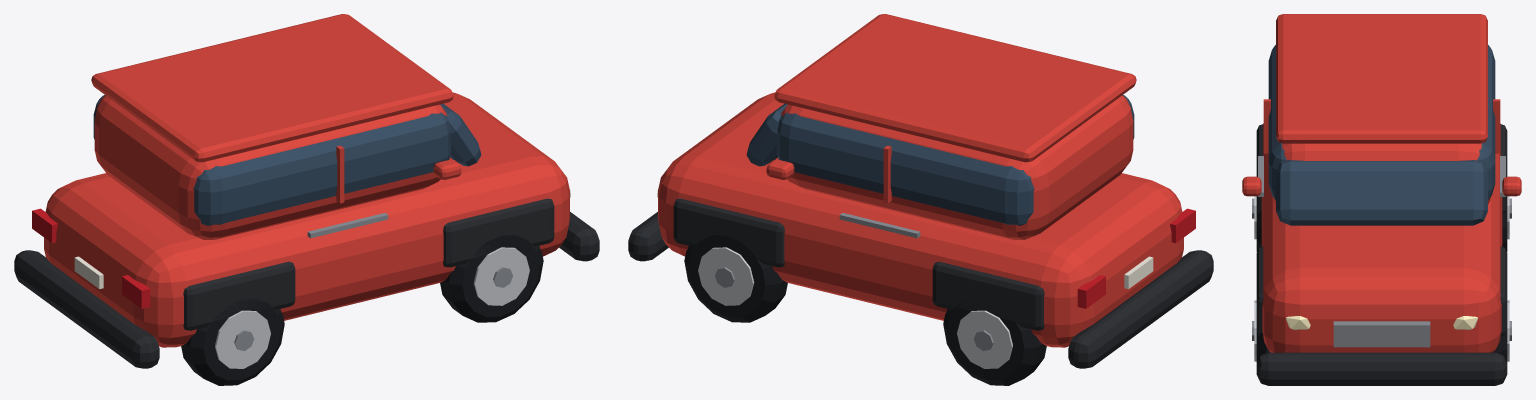
File: car_2014.glb
3 views of the same model, side by side, from view 1: azimuth 30°, elevation 25°; view 2: azimuth 150°, elevation 25°; view 3: azimuth 270°, elevation 25° (orthographic). The views are drawn at different scales.
Visible parts, largest first — view 1: car_2014, wheel_0, wheel_1; view 2: car_2014, wheel_2, wheel_3; view 3: car_2014, wheel_0, wheel_2, wheel_1, wheel_3.
Boxes of the visible parts, <box> form: car_2014: <box>14,14,599,368</box>; wheel_0: <box>440,235,543,322</box>; wheel_1: <box>181,298,284,385</box>; car_2014: <box>628,14,1213,368</box>; wheel_2: <box>684,235,787,322</box>; wheel_3: <box>943,298,1046,385</box>; car_2014: <box>1242,14,1521,385</box>; wheel_0: <box>1252,300,1270,363</box>; wheel_2: <box>1493,300,1511,363</box>; wheel_1: <box>1252,196,1261,251</box>; wheel_3: <box>1502,196,1511,251</box>.
Size of the model in its own units: 1.08 by 0.525 by 0.58.
